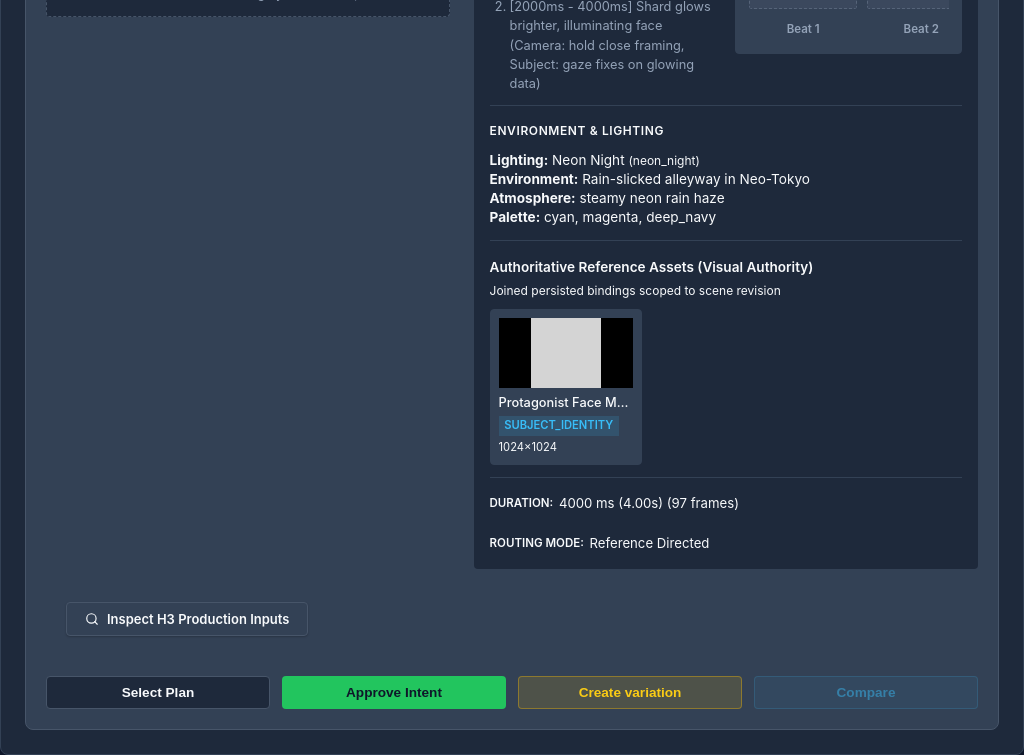
Test: ShotPlanPanel Component › H3 Production Input Inspector Integration › allows loading inspection dynamically on button click
(page scrolled)
Click the button with test id "inspect-production-input-button" at [187, 619], box top-left (66, 602), bottom-right (308, 636)
(page scrolled)
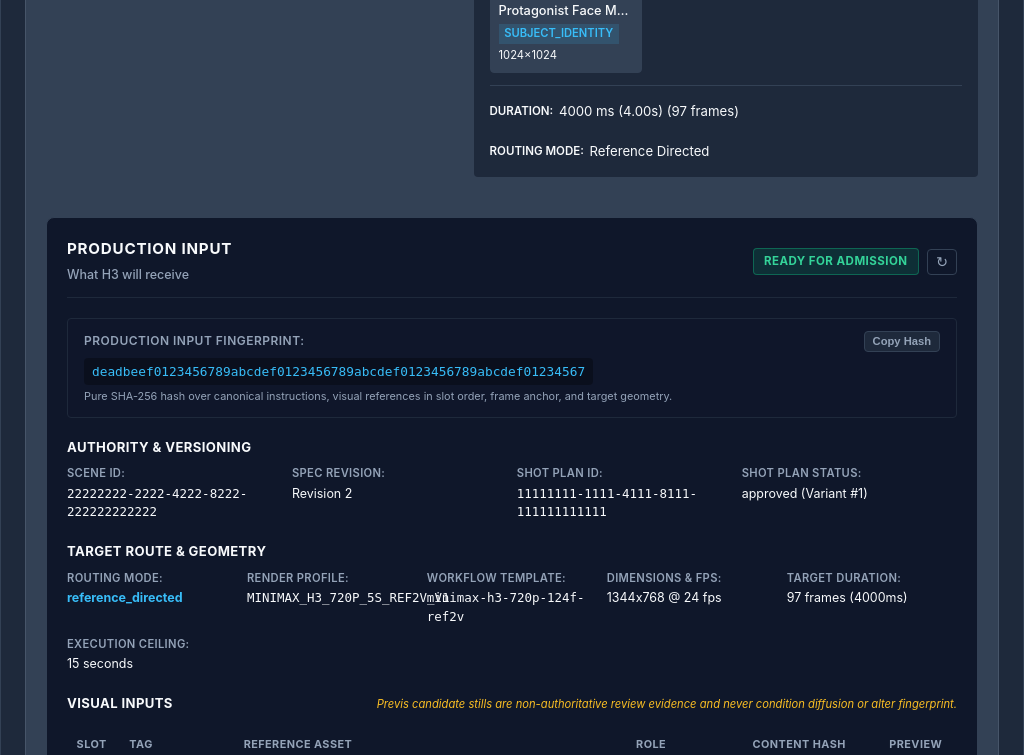
Expected: the text with test id "inspector-fingerprint" shows "deadbeef", top-left (92, 364), bottom-right (585, 379)
